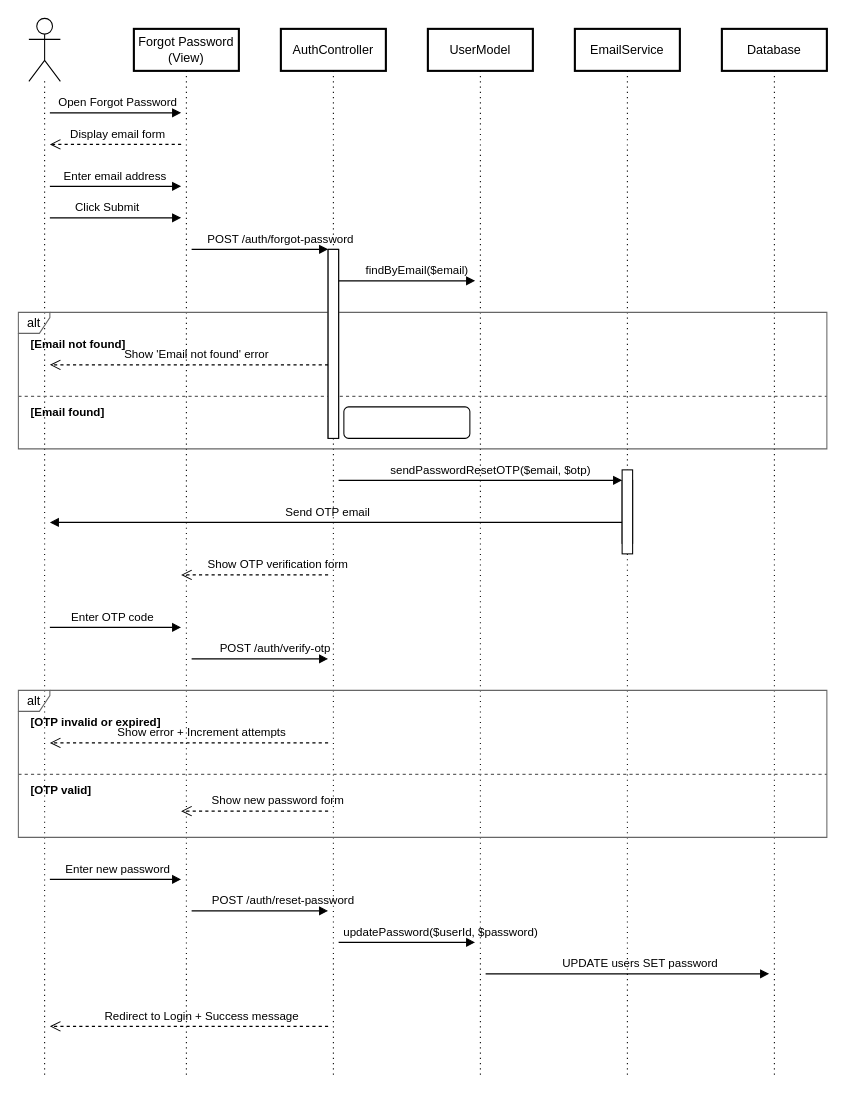
This 846x1098 diagram has some shape labels left out. Each missing label, with the centre of its shape:
generateOTP(): the point at 406,422
User: the point at 44,49
